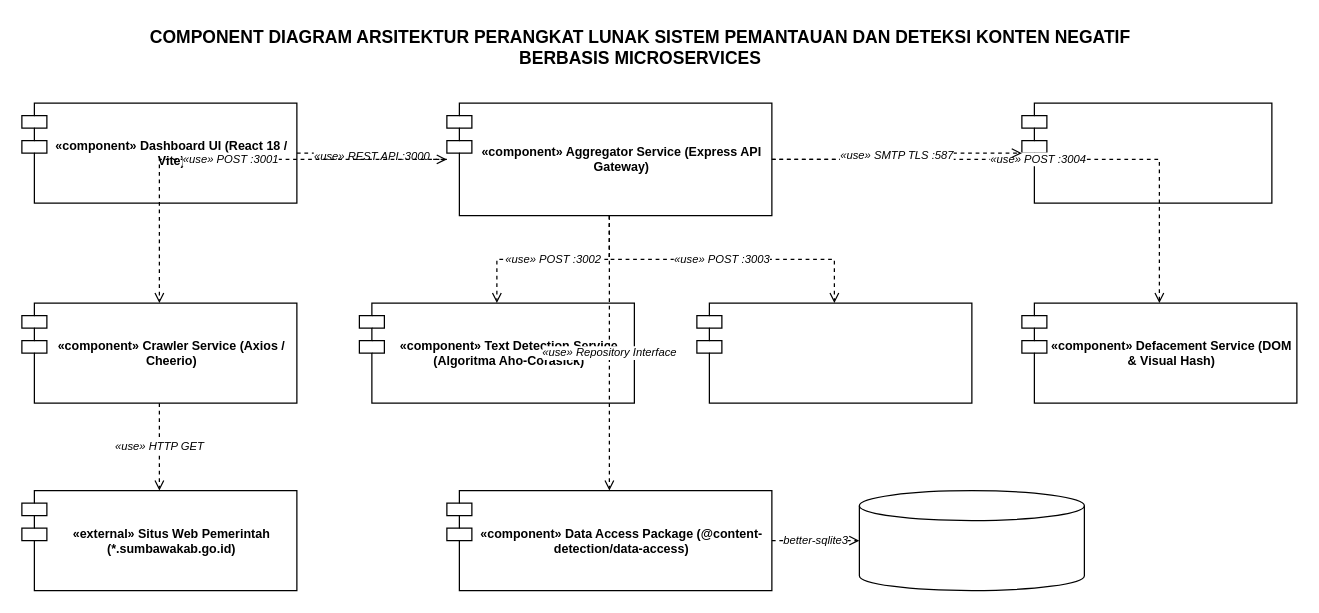
This 1319x613 diagram has some shape labels left out. The shapes that lost their labels are listed below. From the top down, each one's box as (x1, y1, x2, y2) in pixels, then its label:
(1021, 102, 1272, 203): «external» SMTP Mail Server (smtp.gmail.com)
(696, 302, 972, 403): «component» Link Detection Service (Heuristic Parser)
(858, 489, 1084, 591): «database» SQLite Database (scans.db)
